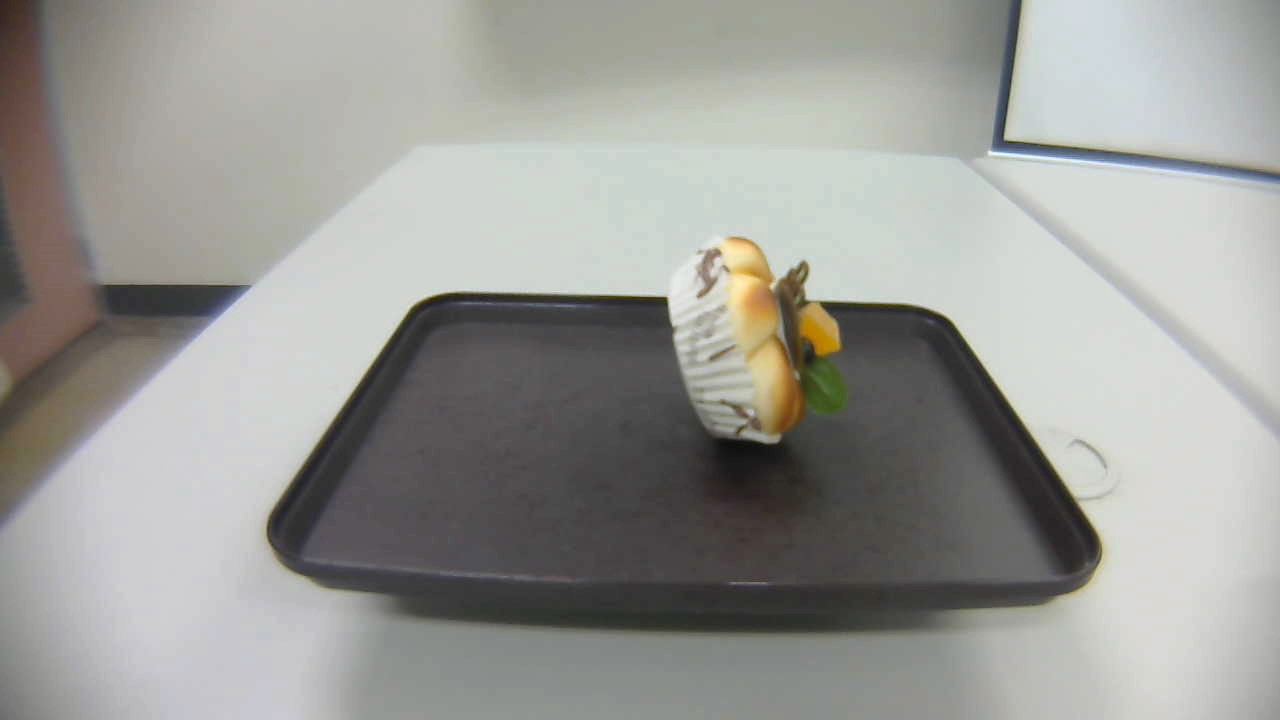fruit tart: (663, 236, 849, 447)
